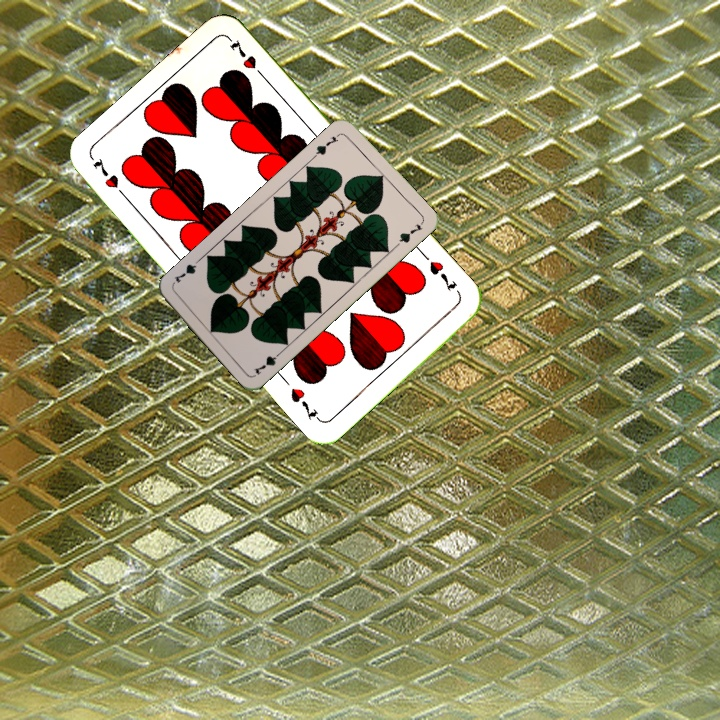G7: (249, 346, 285, 377), (309, 129, 343, 160)
H7: (88, 154, 132, 204), (425, 257, 459, 295)
